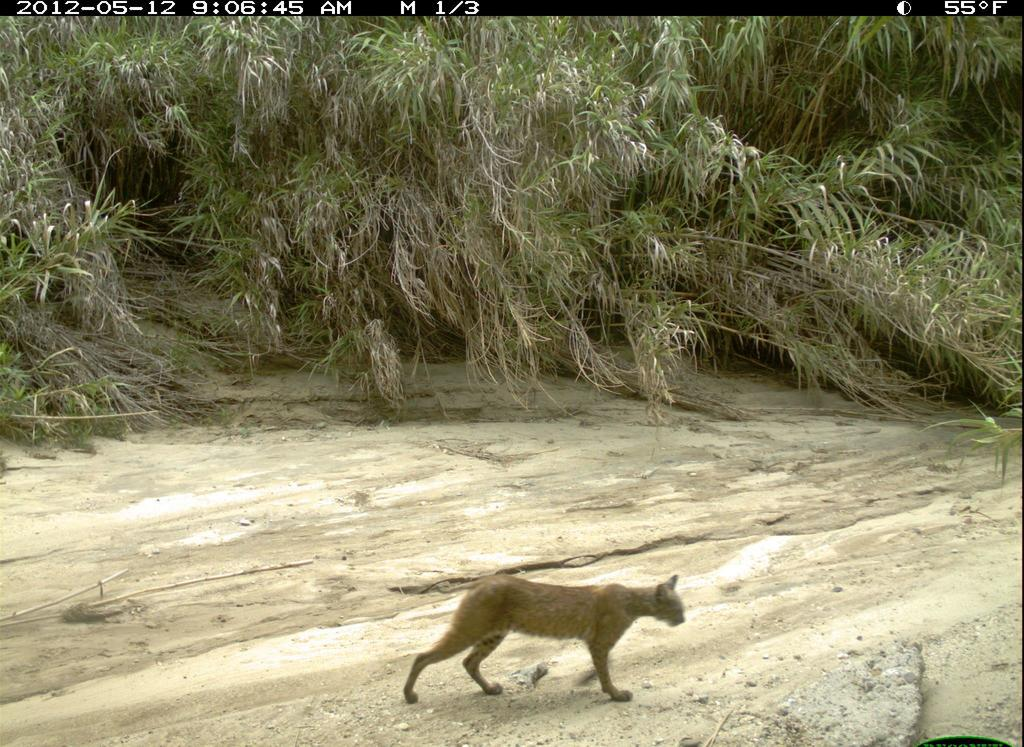bobcat: (399, 564, 705, 713)
